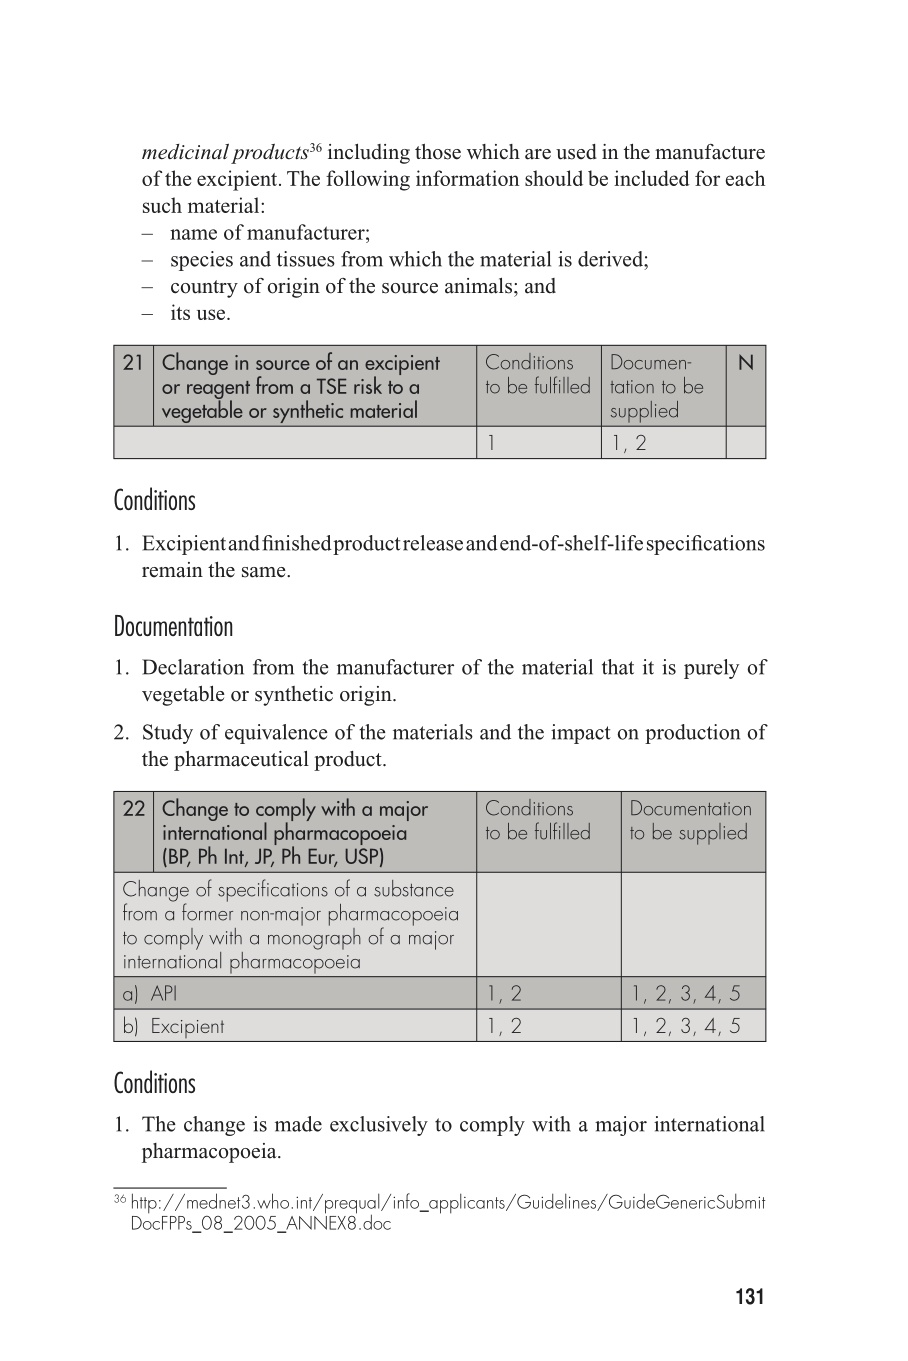merged_cells: (111, 789, 768, 1045), (111, 344, 768, 460)
